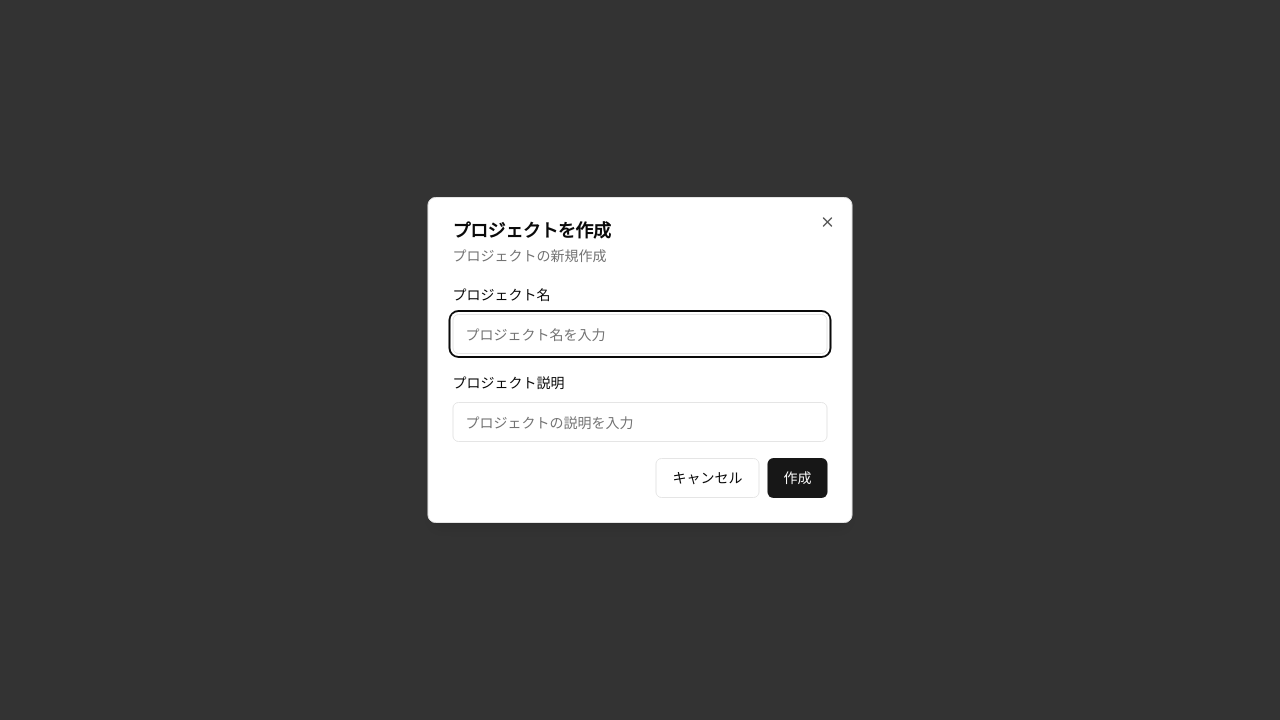
Test: ProjectModal › バリデーションエラーが正しく表示されること
Click the button "作成" at coordinates (798, 478), box x1=768 y1=458 x2=828 y2=498
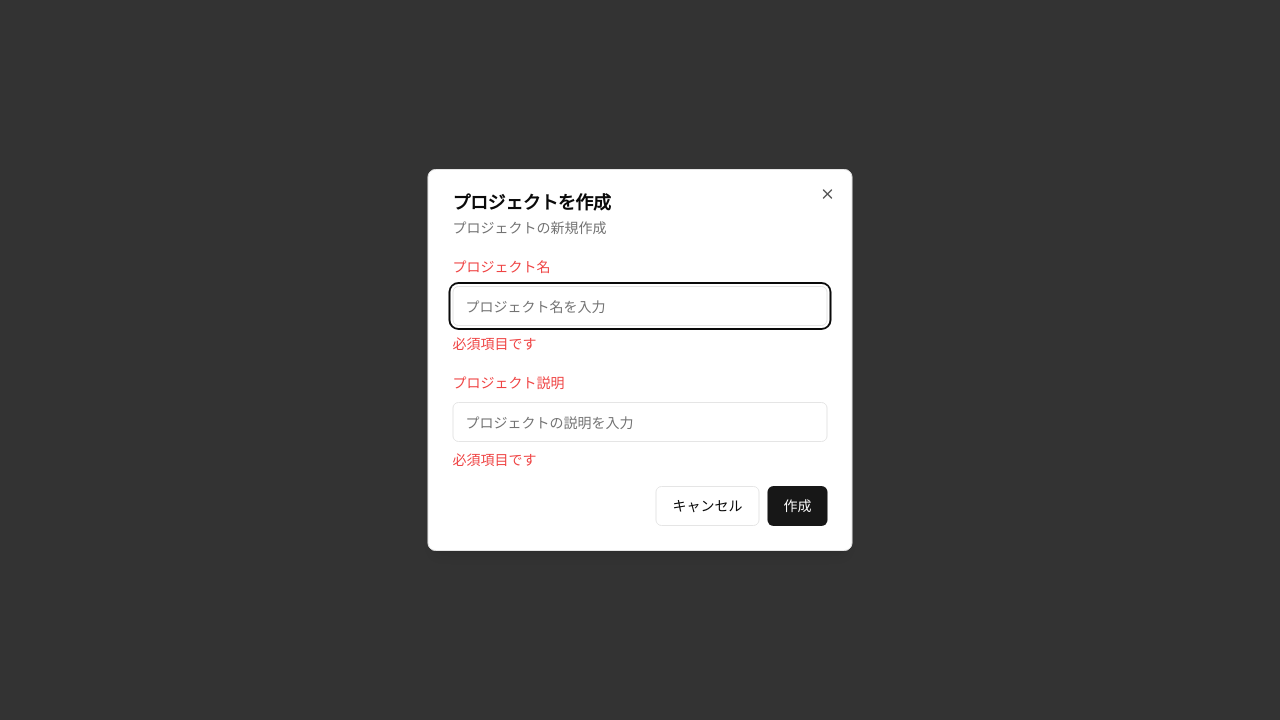
Expected: the text "必須項目です" is shown 2 times, x1=452 y1=335 x2=536 y2=352; x1=452 y1=451 x2=536 y2=468
